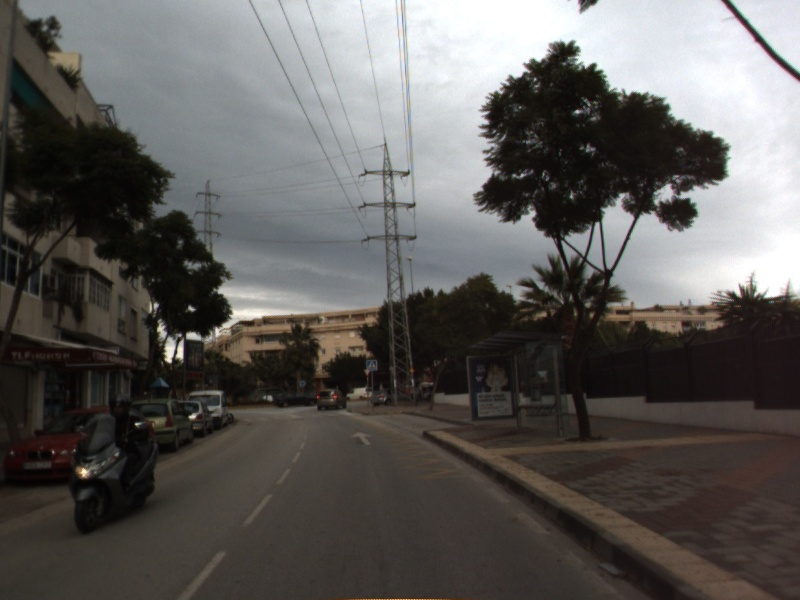STRAIGHT: (348, 430, 377, 447)
